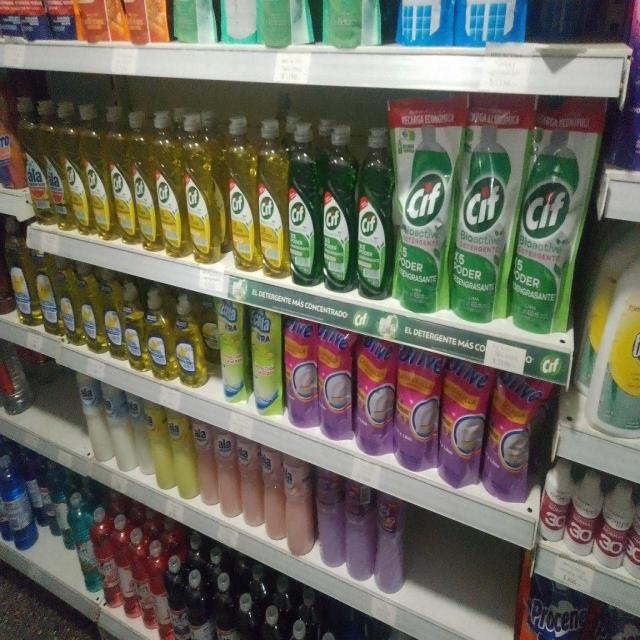ala_conc_amarillo: (24, 100, 49, 228), (45, 101, 64, 229)
ala_crem_amarillo: (170, 407, 194, 500)
ala_crem_rosado: (238, 433, 260, 528), (262, 444, 283, 542), (216, 426, 237, 519), (195, 417, 216, 508)
cif_conc_bot_amarilla: (185, 111, 221, 265), (258, 116, 288, 280), (227, 115, 257, 272), (155, 110, 183, 259), (109, 107, 132, 245), (132, 109, 154, 252), (85, 105, 108, 239)
cif_conc_botella_verde: (356, 126, 392, 299), (322, 123, 355, 293), (288, 120, 320, 287)
cif_conc_sachet_verde: (514, 112, 578, 334), (452, 125, 510, 322), (395, 123, 449, 313)
drive: (440, 360, 486, 488), (395, 348, 438, 471), (356, 337, 394, 457), (319, 326, 353, 441), (284, 318, 318, 430)
magistral_con_amarillo: (174, 294, 204, 387), (146, 290, 172, 380), (80, 264, 102, 353), (36, 248, 58, 336), (103, 270, 123, 360), (124, 284, 144, 372), (59, 257, 79, 344)
